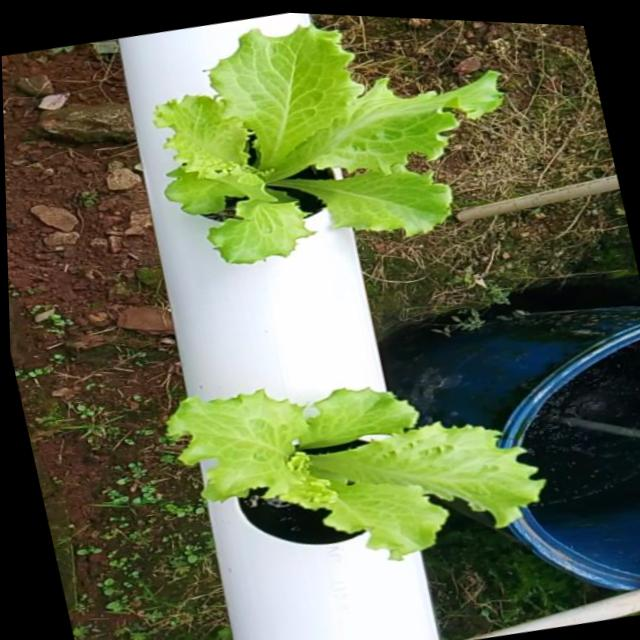Baby: (153, 28, 504, 266), (168, 394, 546, 567)
